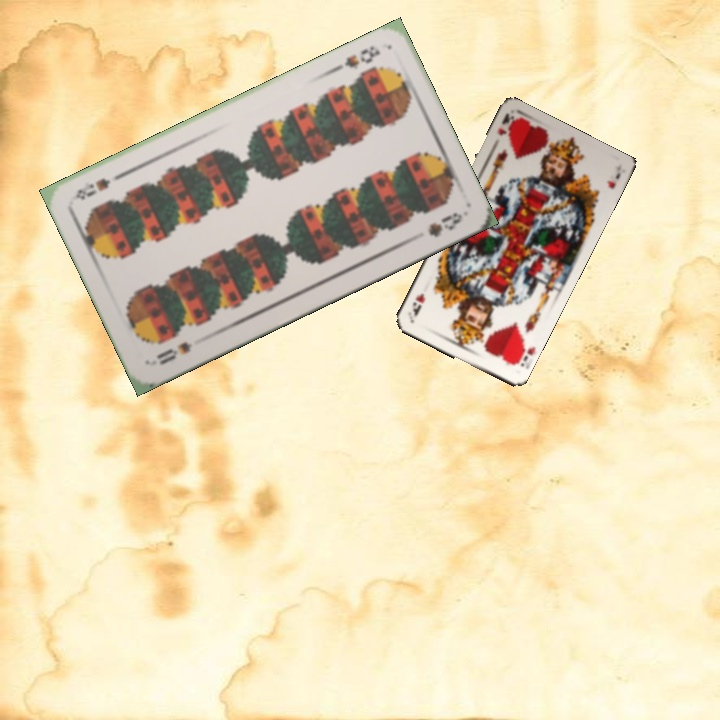HK: (508, 335, 531, 370), (493, 110, 519, 138)
S8: (330, 41, 383, 74), (152, 337, 195, 368)
